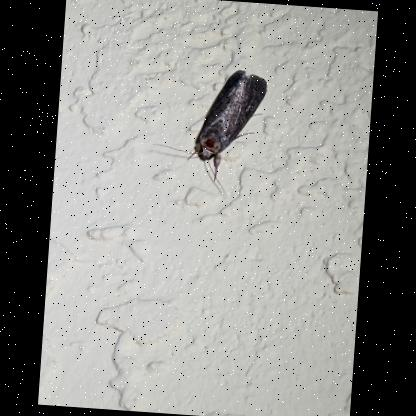Fall Armyworm Moth: (148, 62, 271, 192)
